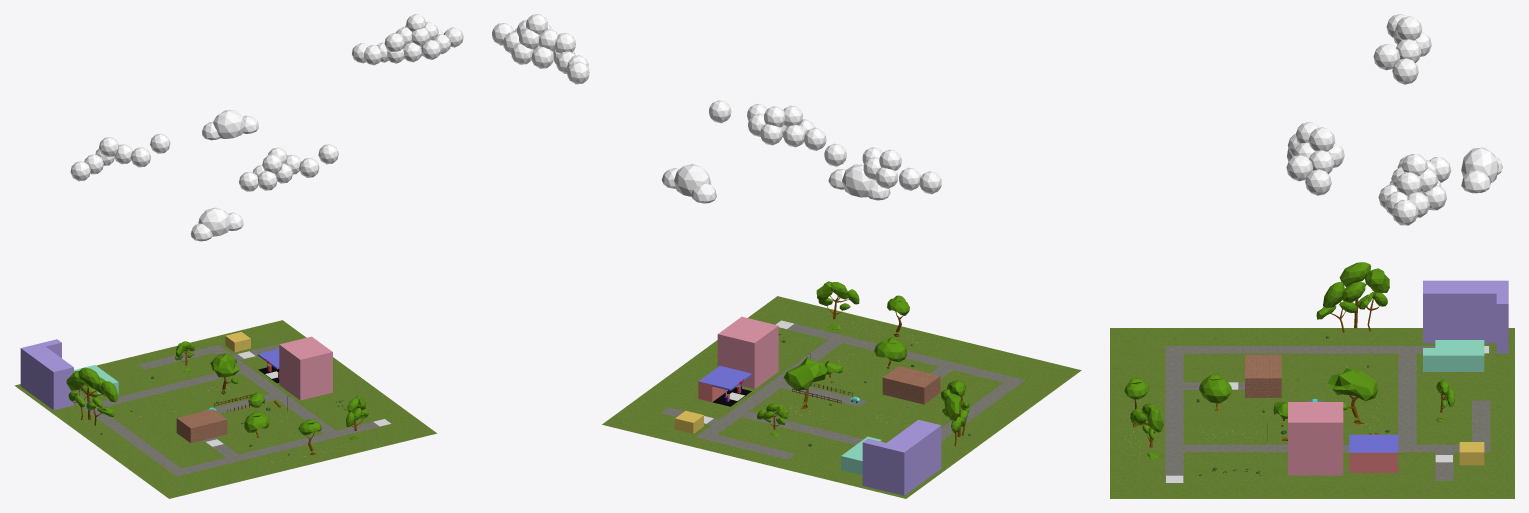
The model's file is Car.glb.
The picture shows the model from 3 angles, left to right: view 1: azimuth 30°, elevation 25°; view 2: azimuth 150°, elevation 25°; view 3: azimuth 270°, elevation 25°; orthographic projection. The views are drawn at different scales.
Parts seen in each view (by area): view 1: Ground, Cloud, Building.004, Building.005, Cloud.005, Cloud.006, Leaves.006, Building, Cloud.004, Cloud.002, Leaves.002, Leaves.004; view 2: Ground, Cloud, Building.005, Building.004, Cloud.005, Cloud.006, Building, Cloud.004, Cloud.002, Leaves.006, Building.007, Leaves.002 (+2 smaller); view 3: Ground, Building.005, Building.004, Cloud, Cloud.005, Cloud.006, Leaves.006, Building.006, Building, Cloud.004, Building.003, Leaves.002 (+5 smaller).
Boxes of the visible parts, box(x1,y1,x2,y2) form: Ground: box(14, 320, 437, 498); Cloud: box(352, 14, 463, 65); Building.004: box(279, 336, 332, 400); Building.005: box(20, 343, 73, 410); Cloud.005: box(239, 144, 338, 191); Cloud.006: box(70, 133, 170, 181); Leaves.006: box(66, 367, 117, 416); Building: box(176, 409, 227, 442); Cloud.004: box(202, 110, 258, 140); Cloud.002: box(190, 207, 243, 241); Leaves.002: box(210, 353, 239, 383); Leaves.004: box(346, 396, 368, 439); Ground: box(602, 296, 1081, 498); Cloud: box(492, 14, 589, 84); Building.005: box(881, 419, 941, 495); Building.004: box(717, 316, 778, 389); Cloud.005: box(709, 100, 826, 150); Cloud.006: box(824, 143, 941, 194); Building: box(882, 366, 940, 404); Cloud.004: box(662, 164, 716, 203); Cloud.002: box(828, 164, 890, 200); Leaves.006: box(941, 380, 969, 432); Building.007: box(862, 438, 885, 489); Leaves.002: box(784, 356, 827, 390); Ground: box(1110, 328, 1514, 498); Building.005: box(1423, 280, 1508, 343); Building.004: box(1288, 402, 1343, 475); Cloud: box(1378, 154, 1451, 225); Cloud.005: box(1286, 122, 1344, 195); Cloud.006: box(1373, 14, 1431, 84); Leaves.006: box(1316, 262, 1389, 319); Building.006: box(1435, 340, 1484, 371); Building: box(1245, 355, 1281, 397); Cloud.004: box(1461, 147, 1502, 192); Building.003: box(1349, 445, 1398, 472); Leaves.002: box(1327, 368, 1377, 410).
Size of what is drawn, in the model's own units: 254 by 187 by 168.
Materials: 44 (5 with a texture image).
